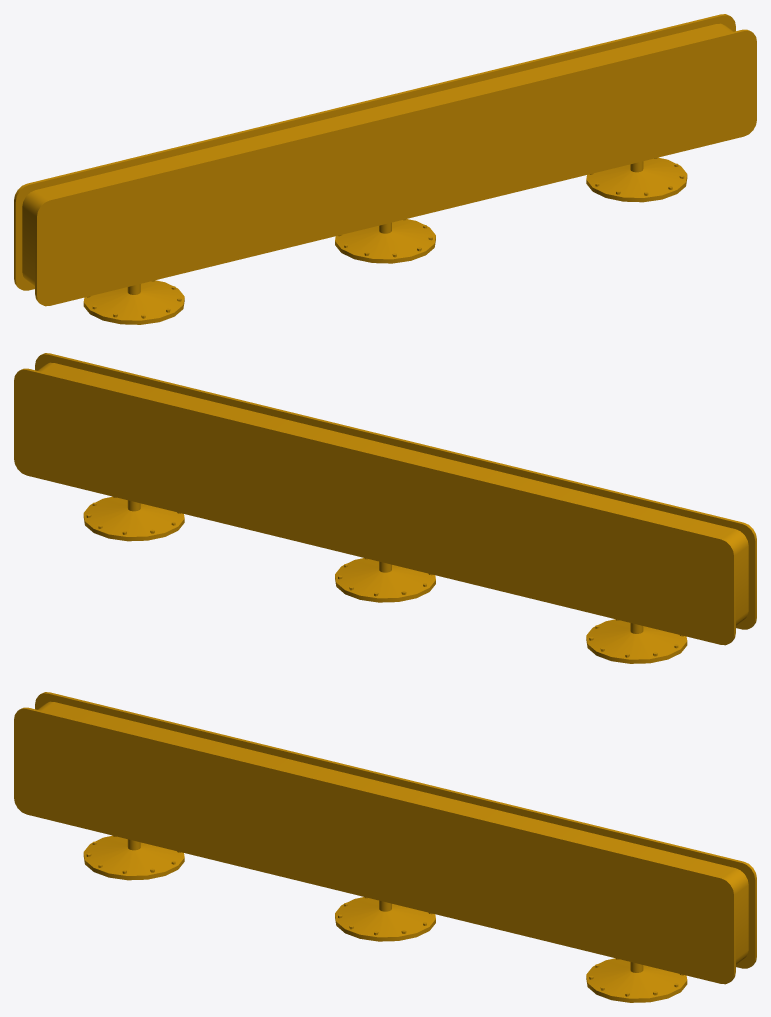
Rendered from Runway_Table.fbx.
The picture shows the model from 3 angles, top to bottom: view 1: azimuth 30°, elevation 25°; view 2: azimuth 150°, elevation 25°; view 3: azimuth 330°, elevation 25°; orthographic projection.
Visible parts, largest first — view 1: Runway_Table; view 2: Runway_Table; view 3: Runway_Table.
Boxes of the visible parts, <box> form: Runway_Table: <box>14,14,756,324</box>; Runway_Table: <box>14,353,756,663</box>; Runway_Table: <box>14,692,756,1002</box>.
Size of the model in its own units: 278 by 49.79 by 34.09.
